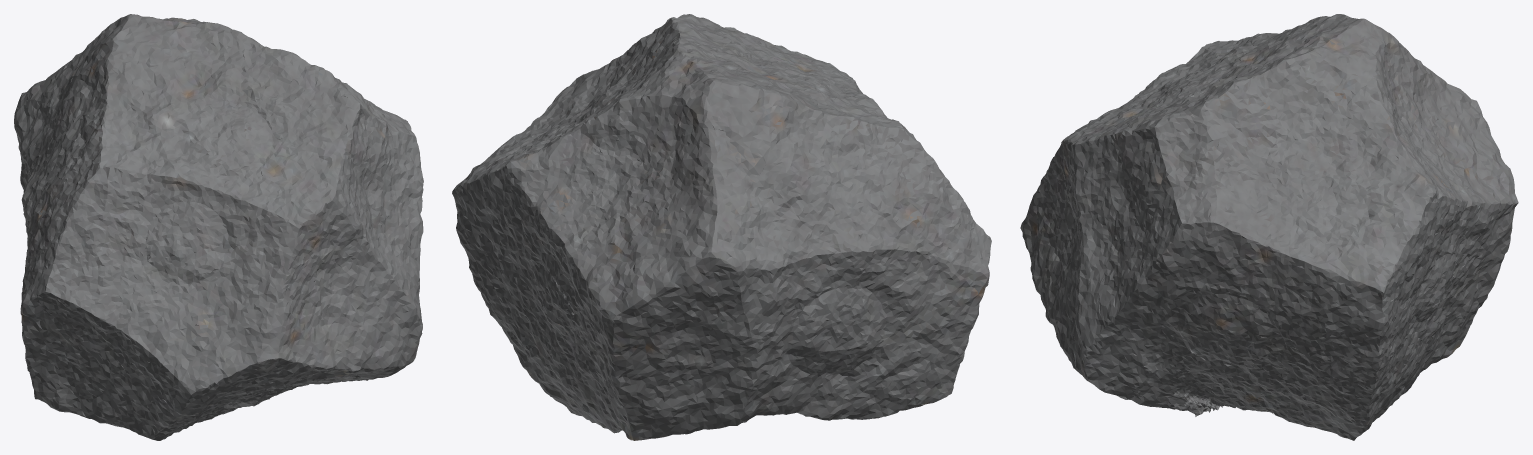
Rendered from rock_rough.dae.
The picture shows the model from 3 angles, left to right: view 1: azimuth 30°, elevation 25°; view 2: azimuth 150°, elevation 25°; view 3: azimuth 270°, elevation 25°; orthographic projection. The views are drawn at different scales.
Parts seen in each view (by area): view 1: rock_rough; view 2: rock_rough; view 3: rock_rough.
Boxes of the visible parts, x1,y1,x2,y2 form: rock_rough: (14,14,423,440); rock_rough: (452,14,991,440); rock_rough: (1020,14,1518,440).
Bounding box in the file's own units: 0.2773 × 0.2815 × 0.2205.
Materials: 1 (1 with a texture image).
